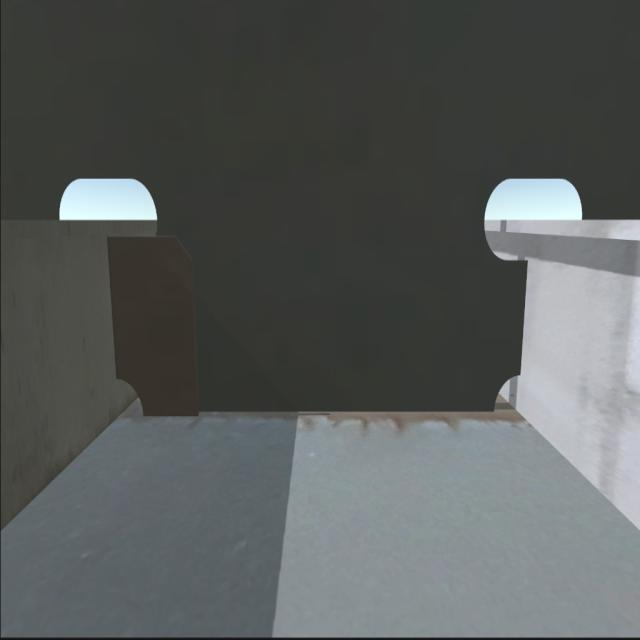fillet_hole: (489, 371, 526, 417), (115, 374, 147, 421)
fillet_yong_jeop_jang: (142, 404, 504, 420)
longi_yong_jeop_jang: (97, 231, 123, 378), (514, 256, 542, 381)
plate_CP03: (104, 236, 202, 420)
